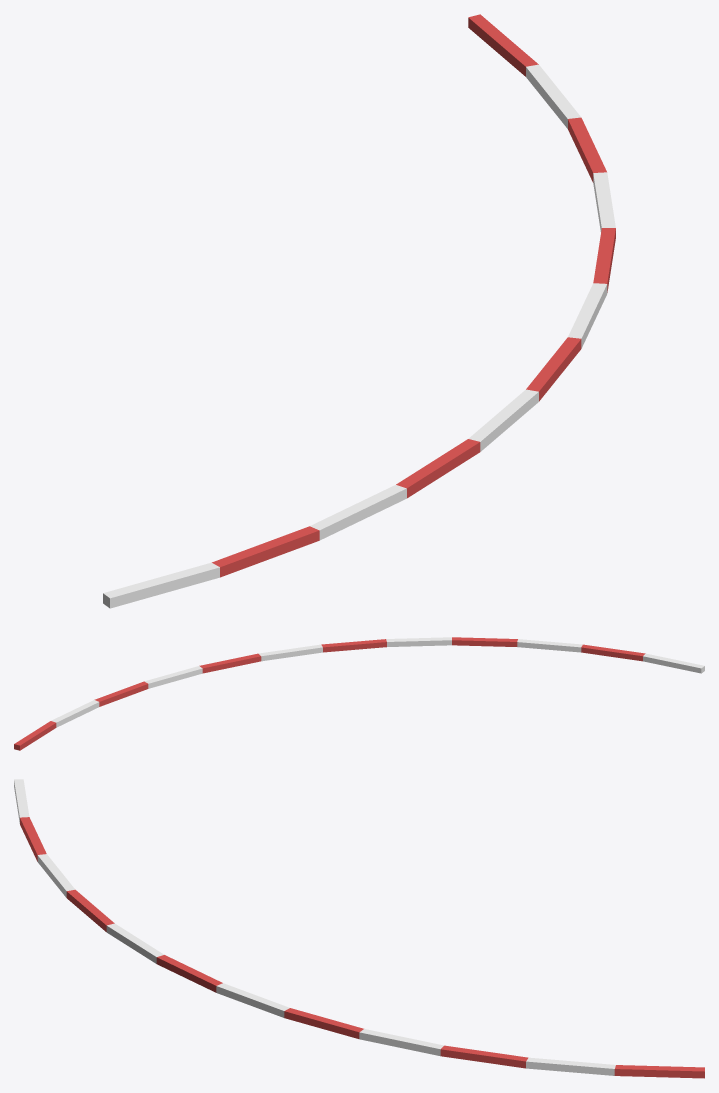
The model's file is roadCornerLargerWall.obj.
The picture shows the model from 3 angles, top to bottom: view 1: azimuth 30°, elevation 25°; view 2: azimuth 150°, elevation 25°; view 3: azimuth 270°, elevation 25°; orthographic projection. The views are drawn at different scales.
Visible parts, largest first — view 1: roadCornerLargerWall; view 2: roadCornerLargerWall; view 3: roadCornerLargerWall.
Boxes of the visible parts, x1,y1,x2,y2 form: roadCornerLargerWall: (103, 14, 615, 608); roadCornerLargerWall: (14, 637, 704, 750); roadCornerLargerWall: (14, 779, 704, 1078).
Size of the model in its own units: 3.58 by 0.04 by 3.58.
